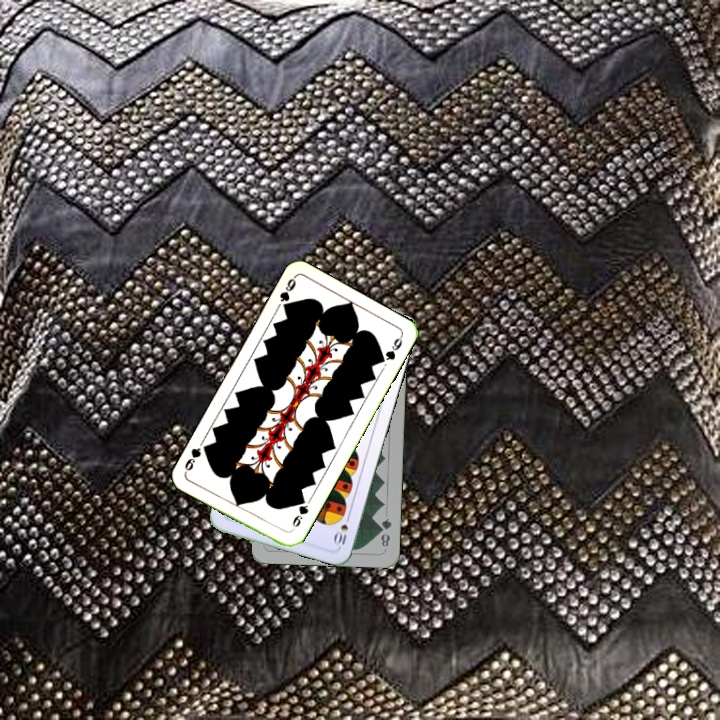G8: (376, 514, 394, 550)
G9: (275, 273, 299, 314), (287, 494, 311, 534)
S10: (330, 510, 353, 550)
